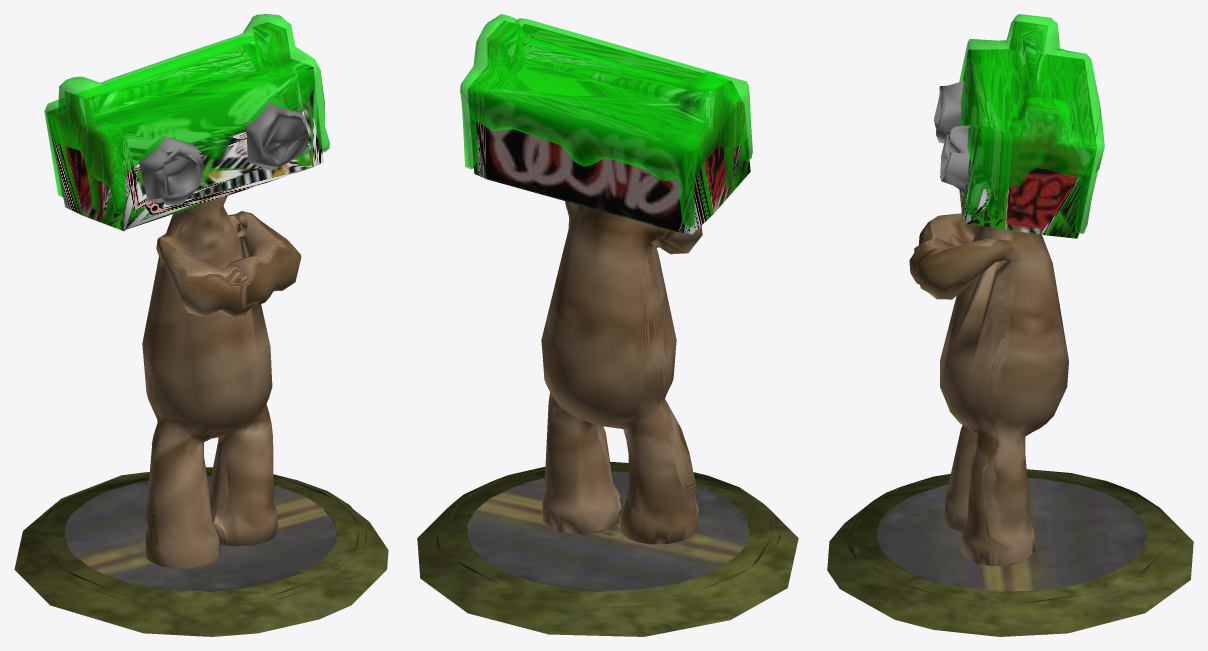
The picture shows the model from 3 angles, left to right: view 1: azimuth 30°, elevation 25°; view 2: azimuth 150°, elevation 25°; view 3: azimuth 270°, elevation 25°; orthographic projection. The views are drawn at different scales.
Bounding box in the file's own units: 1.44 × 2.15 × 1.42.
Materials: 6 (4 with a texture image).
